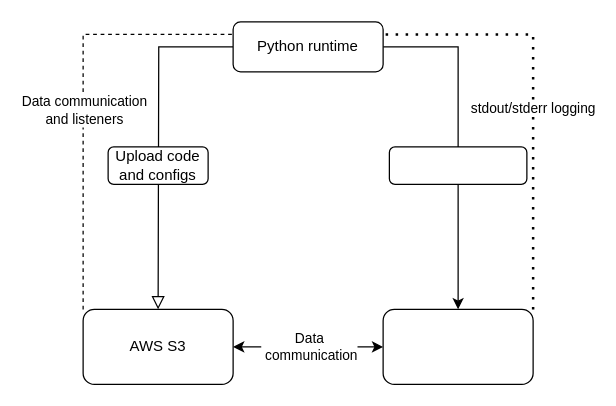
Some shapes in this 616 by 406 pixel diagram are drawn without their labels. Here are the shapes that lost their labels. From the top down, the centre of each, then its label:
the point at 457,165: Start/Manage compute instance
the point at 457,346: EC2 runtime
